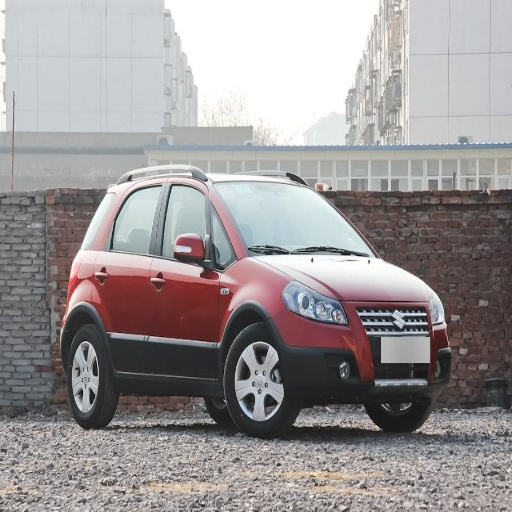front_bumper: (278, 300, 445, 399)
front_right_door: (152, 178, 234, 376)
front_right_light: (284, 282, 349, 326)
